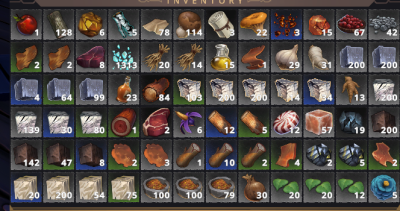ash log: (42, 8, 74, 40)
aurelium ore: (75, 8, 107, 40)
birch log: (108, 9, 138, 39)
chaos ember: (271, 9, 301, 39)
copper ore: (303, 8, 334, 39)
durable hide: (10, 41, 42, 73), (43, 42, 74, 73)
ethereal dust: (108, 41, 139, 72)
flexible hide: (237, 40, 269, 72)
granite stone: (368, 42, 400, 74), (10, 74, 41, 105), (42, 74, 73, 105), (76, 74, 107, 105), (337, 42, 367, 72)
limestone stone: (173, 73, 204, 104), (206, 74, 237, 105), (271, 75, 302, 106), (238, 75, 268, 105), (304, 75, 334, 105)
marble stone: (9, 106, 41, 138), (43, 106, 75, 138), (368, 74, 399, 105), (76, 107, 106, 137)
oak log: (205, 106, 236, 137), (238, 107, 268, 137)
slate stone: (368, 106, 399, 137), (10, 139, 41, 170), (43, 139, 74, 170), (76, 139, 106, 169)
soft hide: (107, 139, 139, 171), (141, 138, 172, 169)
spruce log: (173, 138, 205, 170), (239, 140, 270, 171), (206, 140, 236, 170)
strong hide: (271, 140, 302, 171)
tin ore: (304, 139, 335, 170), (336, 139, 367, 170)
tough hide: (368, 140, 400, 172)
travertine stone: (11, 172, 42, 203), (108, 173, 139, 204), (44, 172, 74, 202), (76, 173, 106, 203)
yew heartwood: (107, 107, 138, 138)
